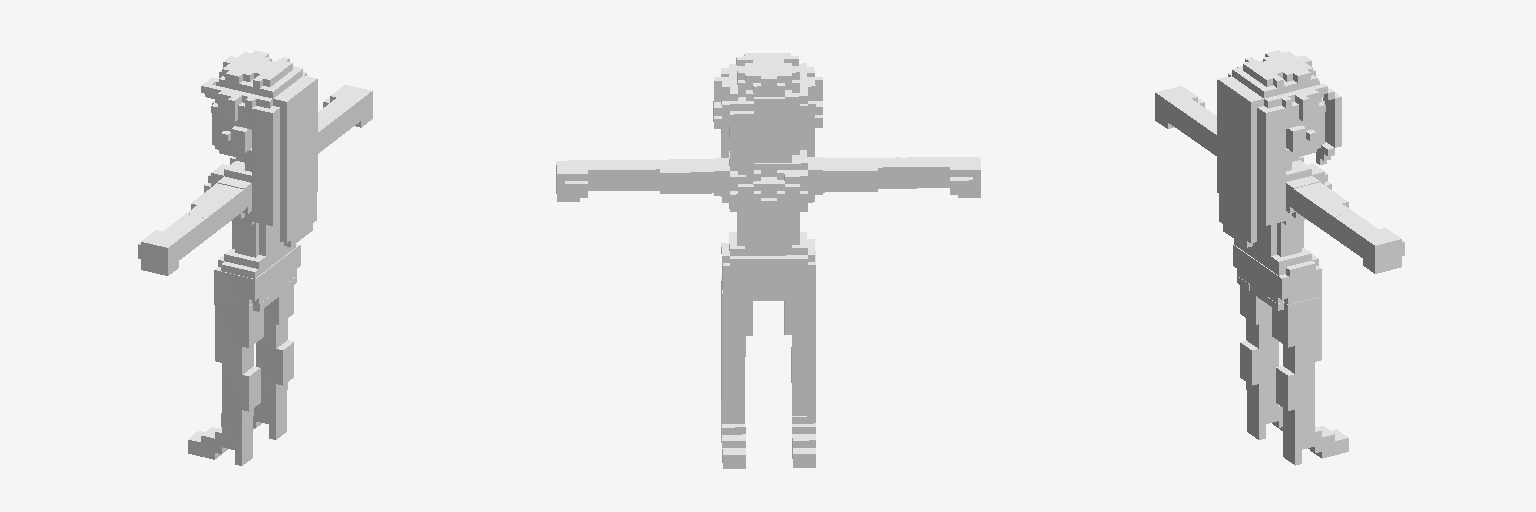
File: ExampleExport.obj
3 views of the same model, side by side, from view 1: azimuth 30°, elevation 25°; view 2: azimuth 150°, elevation 25°; view 3: azimuth 270°, elevation 25° (orthographic).
Visible parts, largest first — view 1: PeloMesh_11, default_7, Cedera_0, default_1, default_10, default_2, default_3, default_14, default_9, default_5, default_4, default_6 (+1 smaller); view 2: PeloMesh_11, default_7, default_12, Cedera_0, default (1)_8, default_14, default_10, default_13, default_9, default_4, default_1, default_2 (+3 smaller); view 3: PeloMesh_11, default_7, default_4, default_14, Cedera_0, default_6, default_10, default_5, default_2, default_13, default_1, default_3 (+2 smaller).
Part boxes in pixels (left/top/right/bottom): PeloMesh_11: left=201, top=50, right=317, bottom=246; default_7: left=217, top=161, right=295, bottom=278; Cedera_0: left=214, top=244, right=300, bottom=312; default_1: left=215, top=296, right=270, bottom=374; default_10: left=138, top=214, right=206, bottom=275; default_2: left=222, top=366, right=260, bottom=428; default_3: left=188, top=417, right=252, bottom=465; default_14: left=318, top=85, right=372, bottom=140; default_9: left=186, top=183, right=243, bottom=238; default_5: left=256, top=340, right=293, bottom=402; default_4: left=256, top=276, right=296, bottom=348; default_6: left=221, top=390, right=286, bottom=439; PeloMesh_11: left=714, top=53, right=822, bottom=181; default_7: left=714, top=150, right=822, bottom=265; default_12: left=713, top=97, right=822, bottom=162; Cedera_0: left=722, top=250, right=815, bottom=300; default (1)_8: left=730, top=170, right=807, bottom=215; default_14: left=556, top=160, right=641, bottom=201; default_10: left=895, top=157, right=980, bottom=197; default_13: left=636, top=159, right=713, bottom=193; default_9: left=823, top=157, right=900, bottom=192; default_4: left=721, top=277, right=752, bottom=360; default_1: left=784, top=300, right=815, bottom=359; default_2: left=791, top=347, right=815, bottom=415; PeloMesh_11: left=1217, top=50, right=1341, bottom=247; default_7: left=1234, top=160, right=1319, bottom=276; default_4: left=1265, top=296, right=1321, bottom=373; default_14: left=1334, top=212, right=1404, bottom=273; Cedera_0: left=1233, top=245, right=1321, bottom=304; default_6: left=1283, top=416, right=1348, bottom=465; default_10: left=1155, top=86, right=1215, bottom=141; default_5: left=1276, top=366, right=1314, bottom=427; default_2: left=1240, top=340, right=1278, bottom=403; default_13: left=1294, top=182, right=1352, bottom=237; default_1: left=1237, top=276, right=1278, bottom=348; default_3: left=1247, top=391, right=1282, bottom=439.
Size of the model in its own units: 4.47 by 4.96 by 2.94.